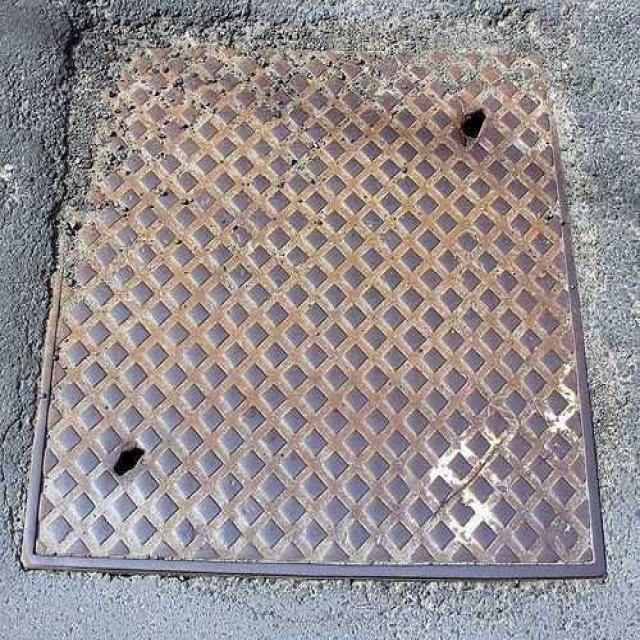manhole: (20, 32, 607, 583)
